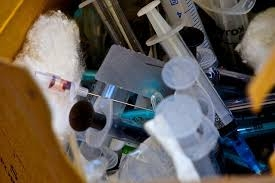plastic: (142, 2, 261, 175), (63, 96, 265, 173)
